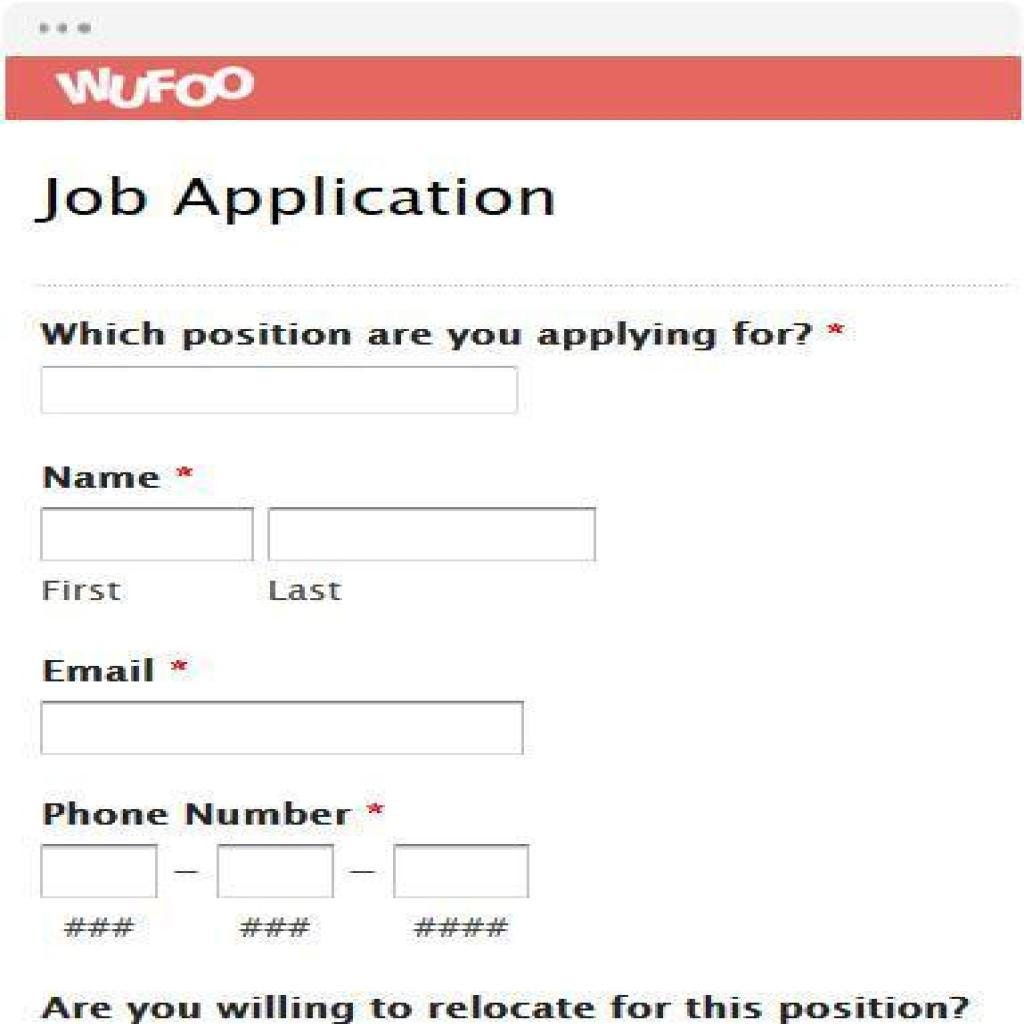input: (40, 701, 521, 755), (40, 366, 521, 416), (273, 507, 599, 560), (43, 506, 254, 562), (393, 846, 529, 898), (40, 846, 158, 900), (217, 846, 334, 898)
label: (32, 981, 976, 1024), (35, 314, 850, 358), (34, 790, 396, 836), (30, 457, 200, 501), (35, 652, 195, 691), (246, 577, 369, 610), (27, 571, 131, 606)
